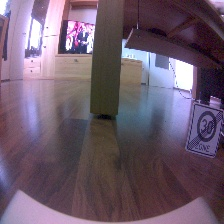dreisiger_zone_ende: (184, 102, 224, 159)
